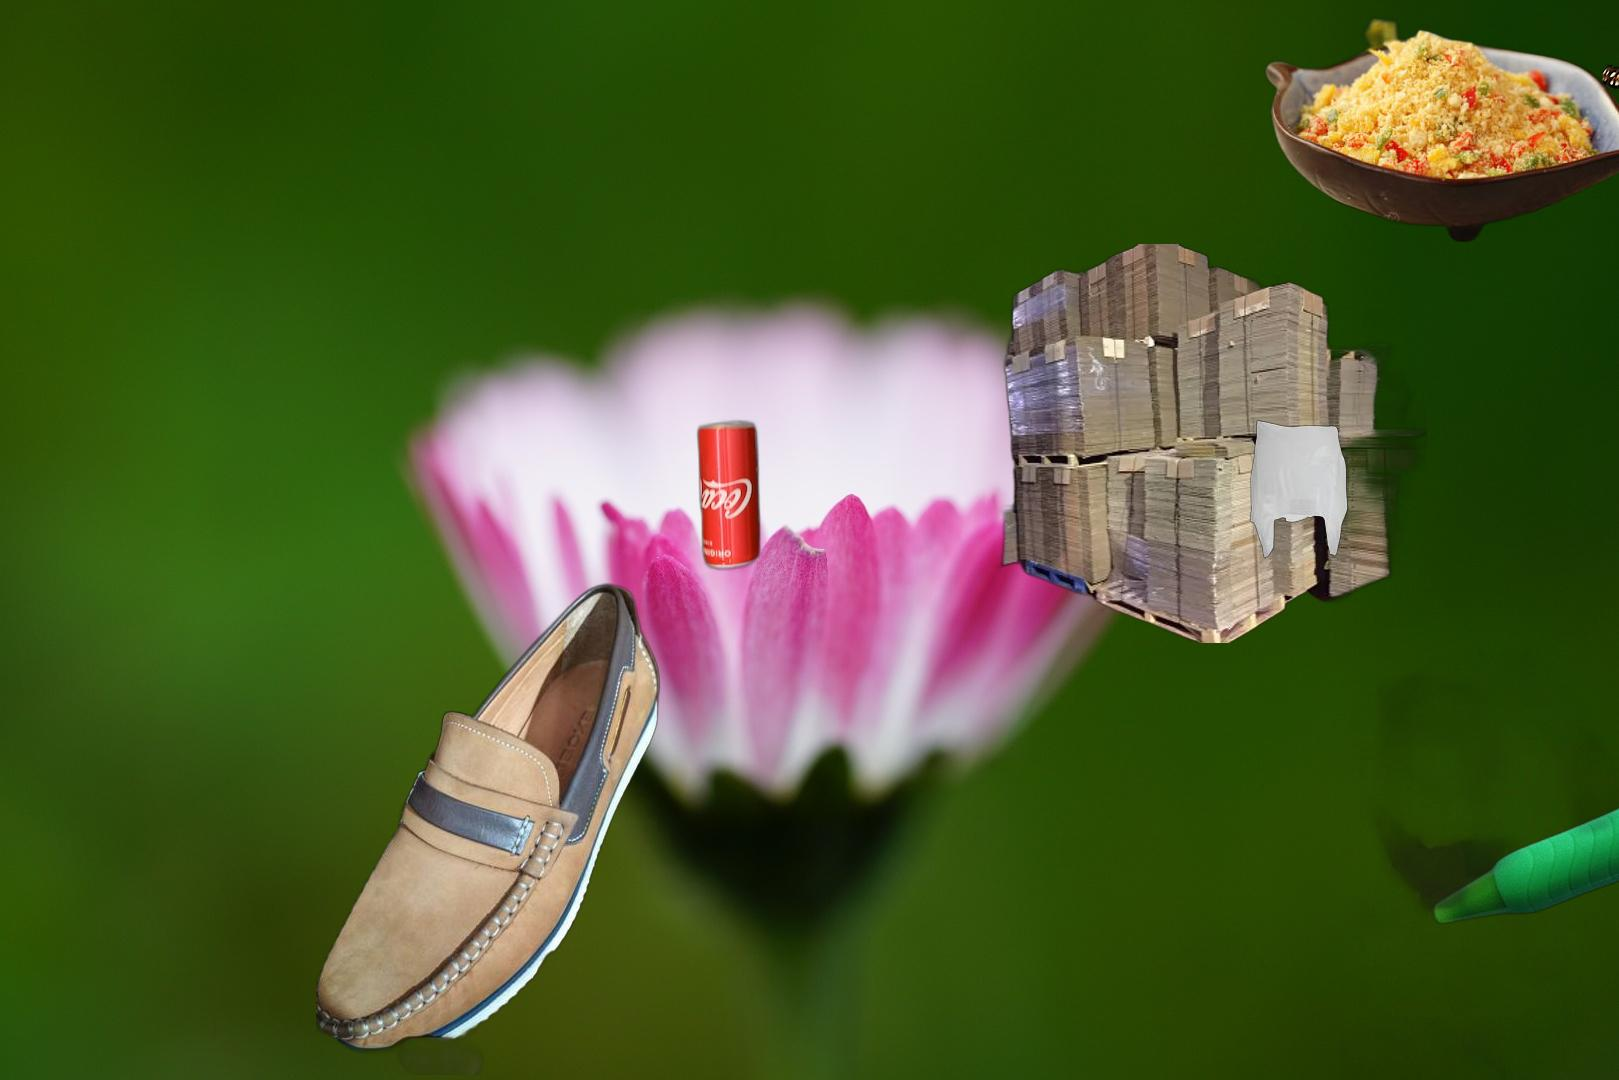biological: (1260, 11, 1619, 245)
glass: (1599, 58, 1619, 165)
metal-cans: (694, 413, 765, 575)
penholder: (1427, 628, 1619, 1017)
plastic-bag: (1249, 417, 1351, 560)
shoes: (316, 580, 669, 1075)
trashbox-cardboard: (1341, 429, 1619, 1080), (995, 243, 1427, 642)
